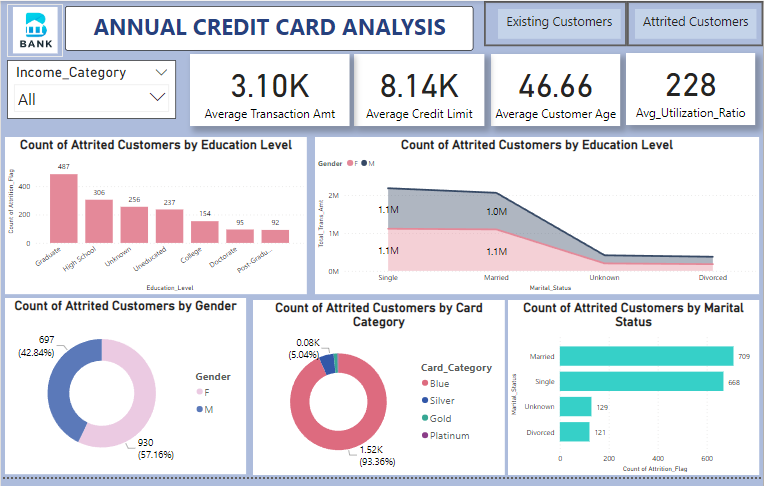

What the dashboard file says about the page in this screenshot:
{"tool":"powerbi","page":{"name":"Attrited Customers","canvas":[1280,800],"ordinal":2},"visuals":[{"type":"image","box":[10.8,5.4,93.7,88.3],"z":0},{"type":"textbox","box":[107,8.8,685.6,75.4],"z":1000},{"type":"card","fields":{"Values":["BankChurners.Average Customer Age"]},"box":[822.4,89.4,217.4,121],"z":2000},{"type":"card","fields":{"Values":["Sum(BankChurners.Avg_Utilization_Ratio)"]},"box":[1050.3,87.7,217.4,121],"z":3000},{"type":"donutChart","title":"Count of Attrited Customers by Gender","fields":{"Y":["CountNonNull(BankChurners.Attrition_Flag)"],"Category":["BankChurners.Gender"]},"box":[6.7,498.9,404.8,295.6],"z":4000},{"type":"actionButton","title":"Attried Customers","box":[1051,0,229,75.7],"z":5000},{"type":"textbox","box":[1065.5,12.6,203.7,50.5],"z":6000},{"type":"actionButton","title":"Attried Customers","box":[811.3,0,239.8,75.7],"z":7000},{"type":"textbox","box":[834.7,12.6,205.5,50.5],"z":8000},{"type":"clusteredColumnChart","title":"Count of Attrited Customers by Education Level","fields":{"Y":["CountNonNull(BankChurners.Attrition_Flag)"],"Category":["BankChurners.Education_Level"]},"box":[6.7,228.5,507.3,263.7],"z":9000},{"type":"slicer","fields":{"Values":["BankChurners.Income_Category"]},"box":[10.1,99.1,283.9,99.1],"z":10000},{"type":"donutChart","title":"Count of Attrited Customers by Card Category","fields":{"Y":["CountNonNull(BankChurners.Attrition_Flag)"],"Category":["BankChurners.Card_Category"]},"box":[423.3,502.3,423.3,294],"z":11000},{"type":"clusteredBarChart","title":"Count of Attrited Customers by Marital Status","fields":{"Category":["BankChurners.Marital_Status"],"Y":["CountNonNull(BankChurners.Attrition_Flag)"]},"box":[851.7,502.3,421.6,294],"z":12000},{"type":"card","fields":{"Values":["BankChurners.Average Credit Limit"]},"box":[592.7,89.4,219.2,121],"z":13000},{"type":"card","fields":{"Values":["BankChurners.Average Transaction Amt"]},"box":[317.4,89.4,268.3,121],"z":14000},{"type":"stackedAreaChart","title":"Count of Attrited Customers by Education Level","fields":{"Y":["Sum(BankChurners.Total_Trans_Amt)"],"Category":["BankChurners.Marital_Status"],"Series":["BankChurners.Gender"]},"box":[527.5,228.5,745.8,263.7],"z":15000}]}

Visuals, with their boxes in screenshot pixels (x1, y1, x2, y2), scaled from the page's 1280x800 canvas onto the 764x486 screenshot:
image: bbox=[6, 3, 62, 57]
textbox: bbox=[64, 5, 473, 51]
card - BankChurners.Average Customer Age: bbox=[491, 54, 621, 128]
card - Sum(BankChurners.Avg_Utilization_Ratio): bbox=[627, 53, 757, 127]
"Count of Attrited Customers by Gender" donutChart: bbox=[4, 303, 246, 483]
"Attried Customers" actionButton: bbox=[627, 0, 763, 46]
textbox: bbox=[636, 8, 758, 38]
"Attried Customers" actionButton: bbox=[484, 0, 627, 46]
textbox: bbox=[498, 8, 621, 38]
"Count of Attrited Customers by Education Level" clusteredColumnChart: bbox=[4, 139, 307, 299]
slicer - BankChurners.Income_Category: bbox=[6, 60, 175, 120]
"Count of Attrited Customers by Card Category" donutChart: bbox=[253, 305, 505, 484]
"Count of Attrited Customers by Marital Status" clusteredBarChart: bbox=[508, 305, 760, 484]
card - BankChurners.Average Credit Limit: bbox=[354, 54, 485, 128]
card - BankChurners.Average Transaction Amt: bbox=[189, 54, 350, 128]
"Count of Attrited Customers by Education Level" stackedAreaChart: bbox=[315, 139, 760, 299]
